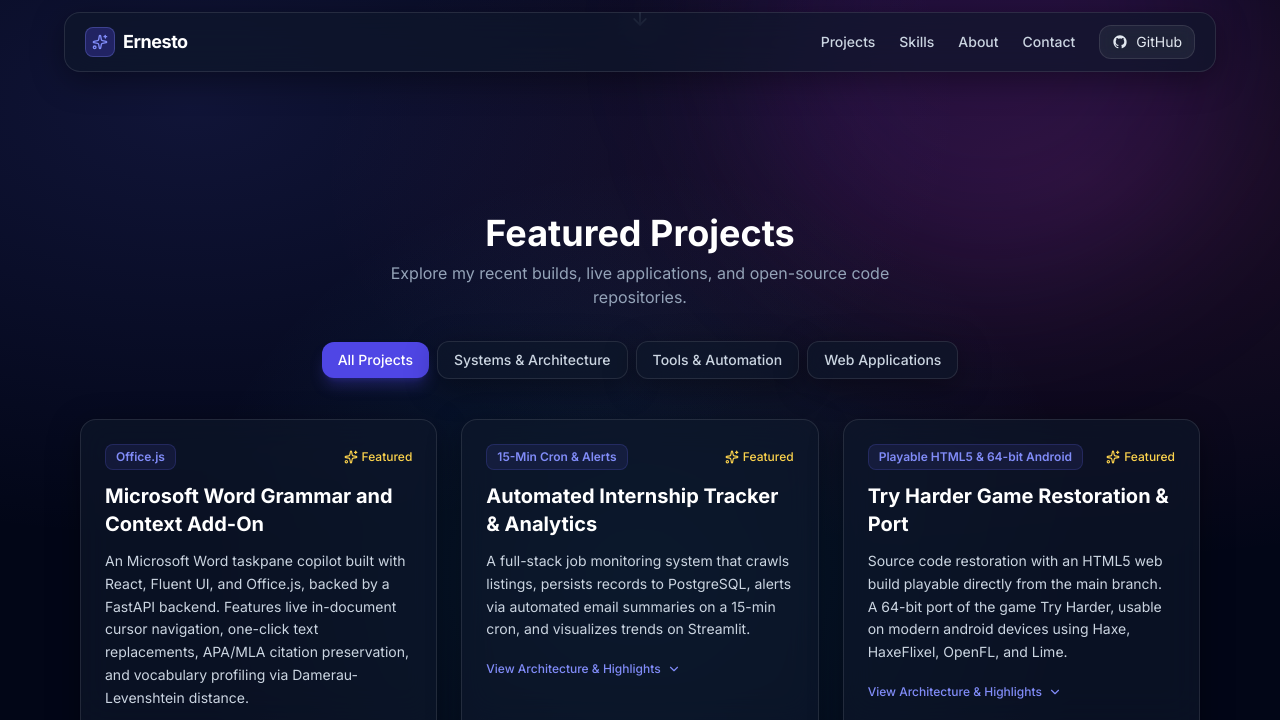
Portfolio App Integration › filters by Systems & Architecture and launches Try Harder
Later steps or results of the test are not shown.
(page scrolled)
Click the button "Systems & Architecture".
click(532, 360)  # box [437,341,628,379]
(page scrolled)
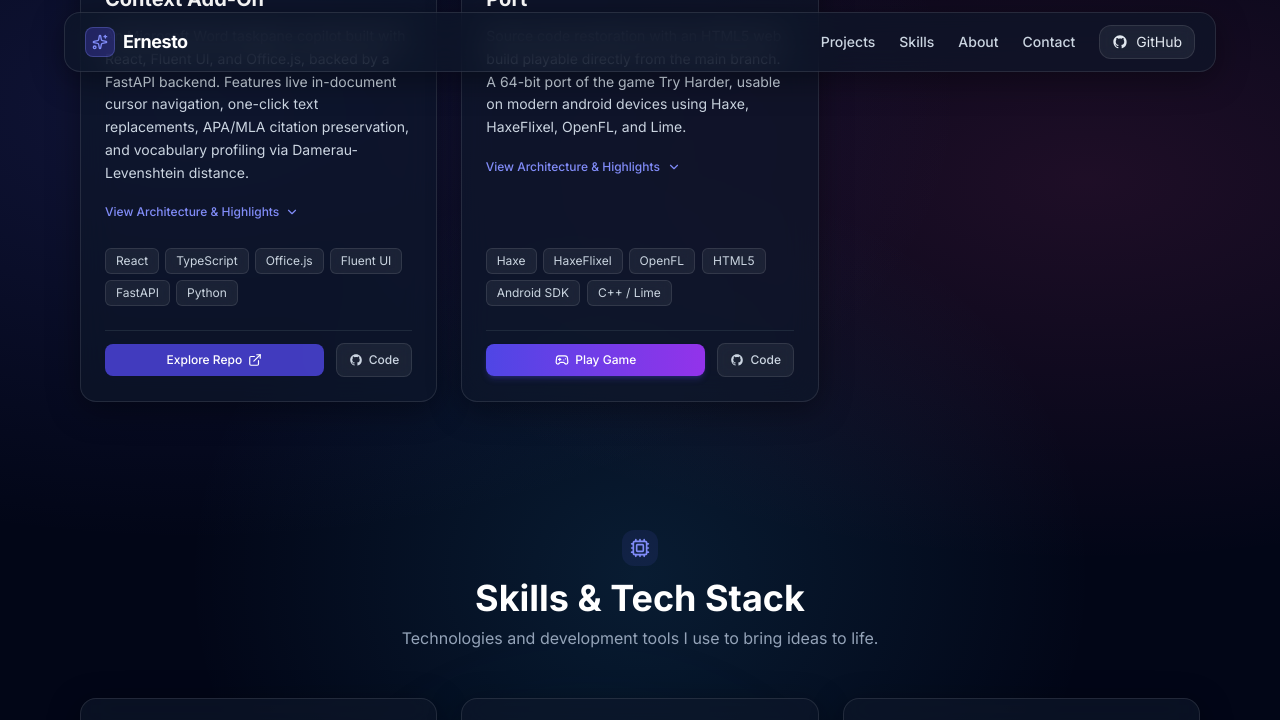
Now the heading "Automated Internship Tracker & Analytics" is gone
